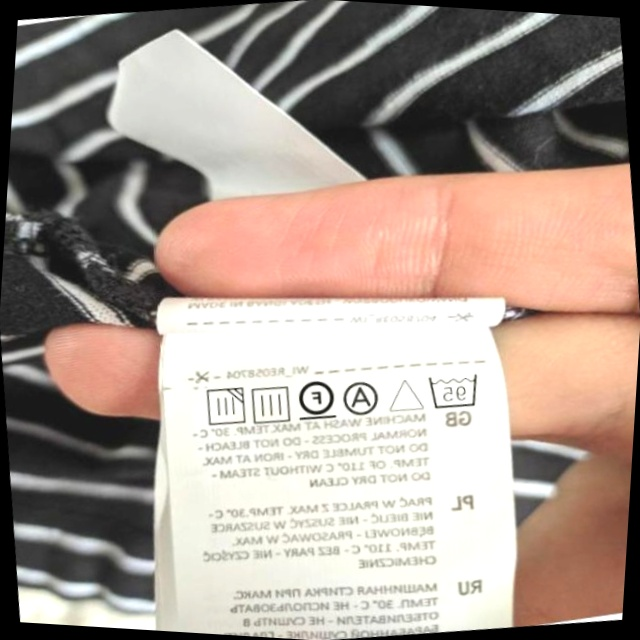95C: (423, 367, 484, 414)
bleach: (386, 371, 426, 417)
drip_dry: (246, 380, 295, 428)
drip_dry_in_shade: (198, 382, 249, 432)
dry_clean: (340, 377, 384, 419)
dry_clean_petrol_only: (293, 373, 339, 424)
